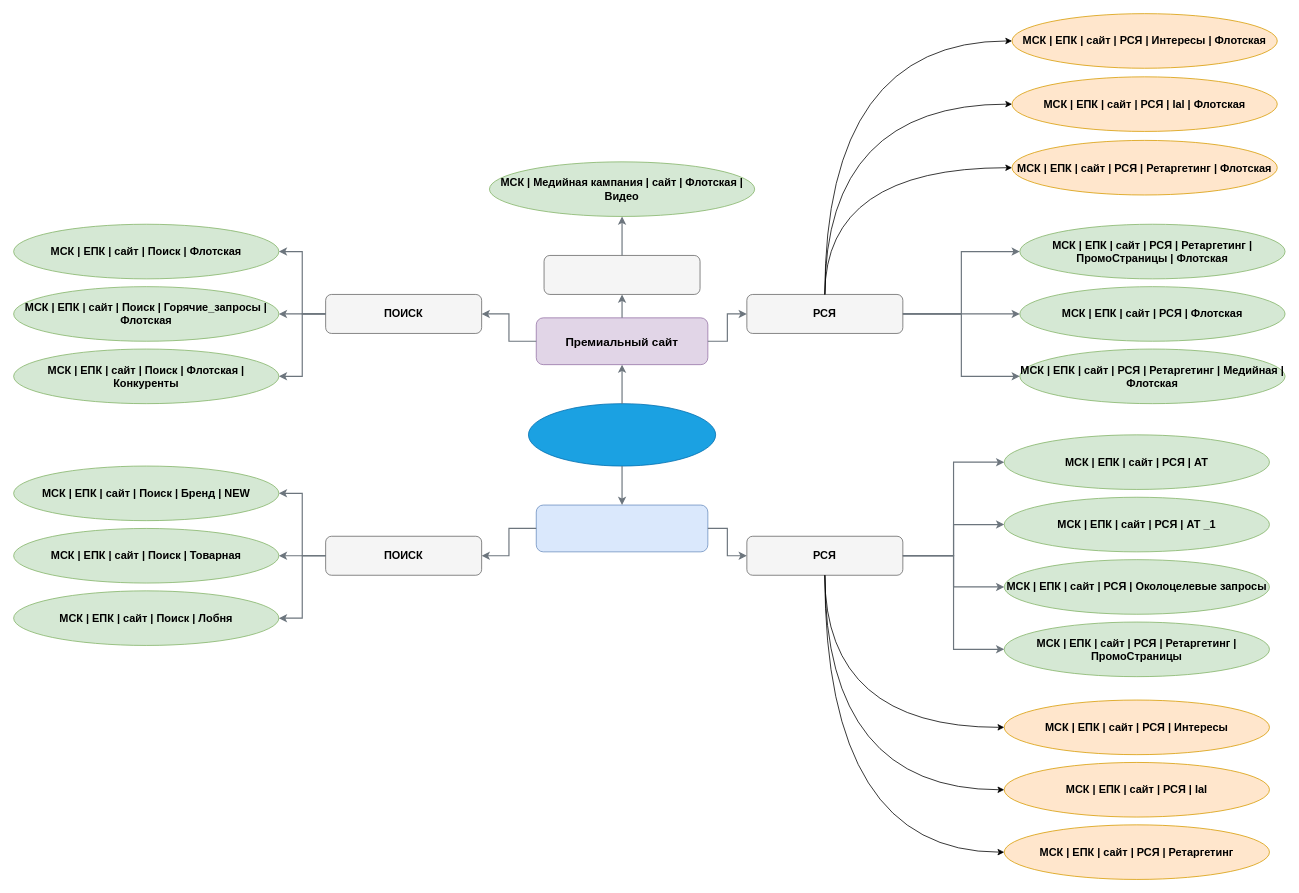
This 1299x893 diagram has some shape labels left out. Each missing label, with the box of its shape:
Академия Долголетия: (528, 403, 716, 466)
МЕДИЙНАЯ: (543, 255, 700, 294)
Основной сайт: (535, 504, 708, 552)
